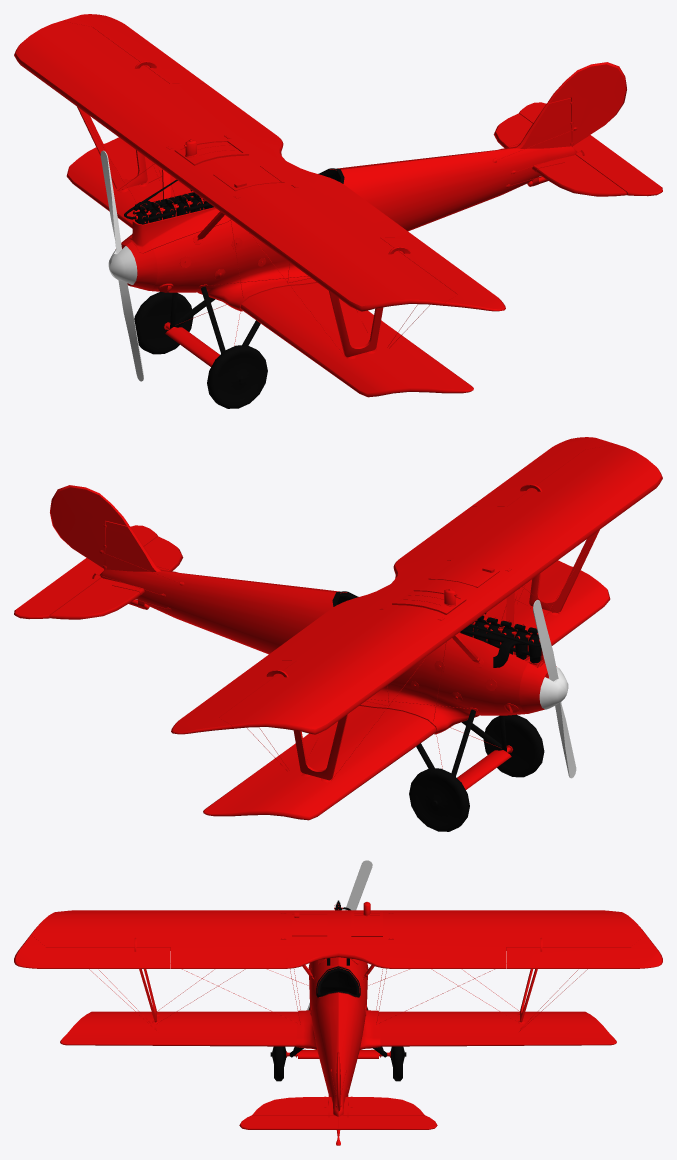
File: pfalzDIII.fbx
3 renders of one model, top to bottom at view 1: azimuth 30°, elevation 25°; view 2: azimuth 150°, elevation 25°; view 3: azimuth 270°, elevation 25°, orthographic. The views are drawn at different scales.
Visible parts, largest first — view 1: pfalzDIIIFuselage, pfalzDIIIPropeller; view 2: pfalzDIIIFuselage, pfalzDIIIPropeller; view 3: pfalzDIIIFuselage, pfalzDIIIPropeller.
Part boxes in pixels (x1=…): pfalzDIIIFuselage: x1=14, y1=14, x2=662, y2=408; pfalzDIIIPropeller: x1=100, y1=150, x2=143, y2=381; pfalzDIIIFuselage: x1=14, y1=437, x2=662, y2=831; pfalzDIIIPropeller: x1=533, y1=600, x2=576, y2=778; pfalzDIIIFuselage: x1=14, y1=900, x2=662, y2=1145; pfalzDIIIPropeller: x1=307, y1=860, x2=372, y2=1010.
Bounding box in the file's own units: 6.86 × 2.98 × 9.31.
